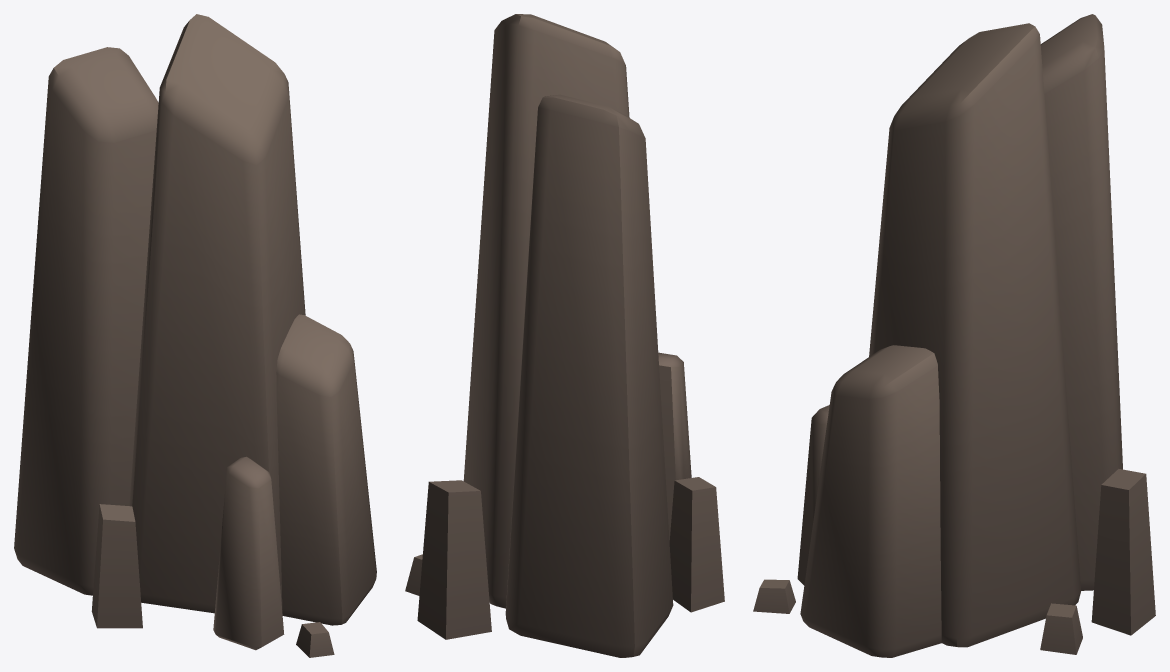
File: Rock_4_H_Color6.fbx
3 views of the same model, side by side, from view 1: azimuth 30°, elevation 25°; view 2: azimuth 150°, elevation 25°; view 3: azimuth 270°, elevation 25° (orthographic). The views are drawn at different scales.
Visible parts, largest first — view 1: Rock_4_H_Color6; view 2: Rock_4_H_Color6; view 3: Rock_4_H_Color6.
Boxes of the visible parts, x1,y1,x2,y2 form: Rock_4_H_Color6: [14, 14, 376, 657]; Rock_4_H_Color6: [405, 14, 724, 657]; Rock_4_H_Color6: [753, 14, 1155, 657].
Size of the model in its own units: 1.83 by 3.74 by 2.34.
